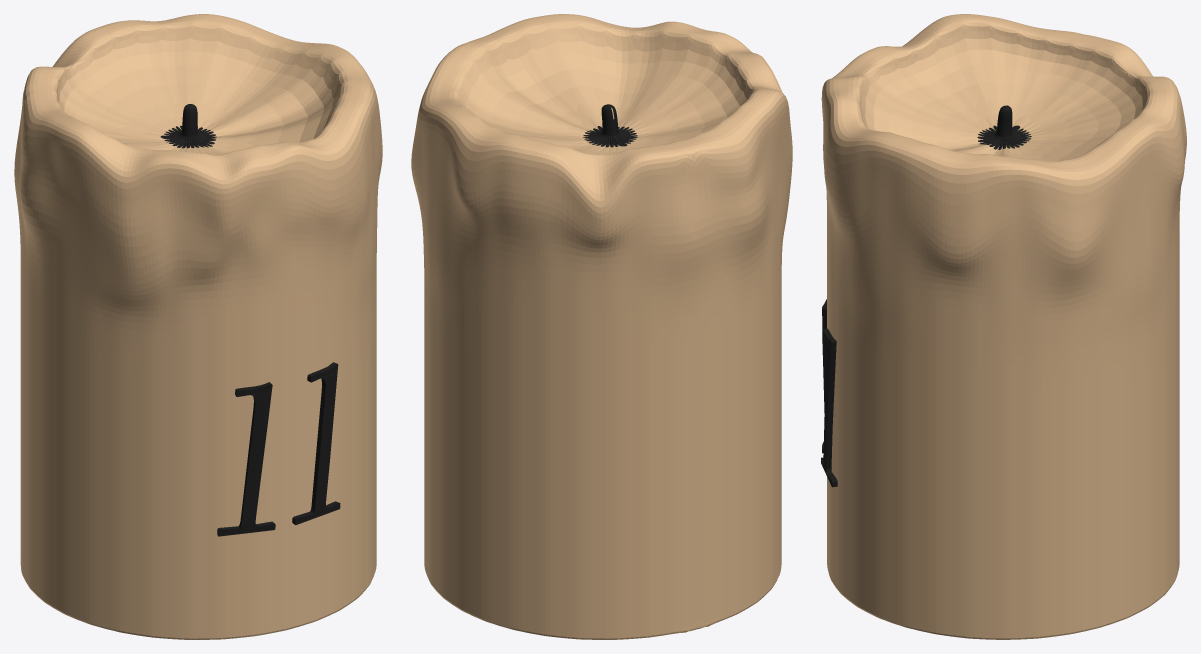
Rendered from Candle-11.fbx.
3 renders of one model, left to right at view 1: azimuth 30°, elevation 25°; view 2: azimuth 150°, elevation 25°; view 3: azimuth 270°, elevation 25°, orthographic.
Parts seen in each view (by area): view 1: Candle, Text; view 2: Candle; view 3: Candle, Text.
Part boxes in pixels (bbox=[...]): Candle: bbox=[14, 14, 382, 639]; Text: bbox=[217, 362, 340, 536]; Candle: bbox=[411, 14, 792, 639]; Candle: bbox=[821, 14, 1186, 639]; Text: bbox=[821, 299, 837, 487].
Size of the model in its own units: 41.75 by 60.84 by 41.38.
